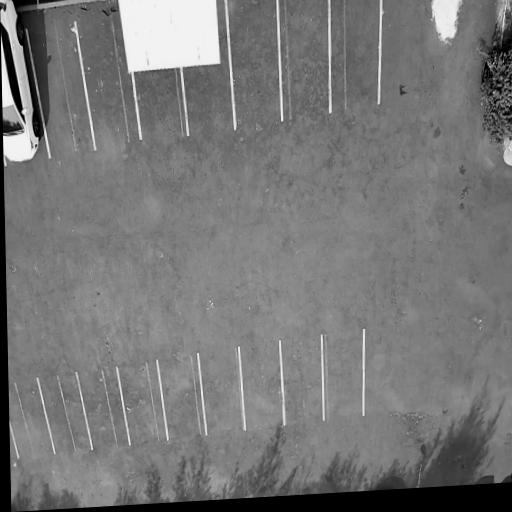Car: (0, 0, 49, 166)
Space Available: (26, 22, 95, 158), (75, 17, 138, 149), (226, 0, 282, 129), (278, 0, 330, 122), (330, 0, 382, 113), (37, 374, 93, 456), (116, 362, 168, 447), (77, 368, 130, 451), (157, 354, 207, 440), (198, 350, 247, 437), (238, 343, 284, 431), (133, 67, 188, 140), (181, 63, 235, 135), (280, 336, 324, 424), (322, 332, 364, 421), (9, 379, 54, 459)
